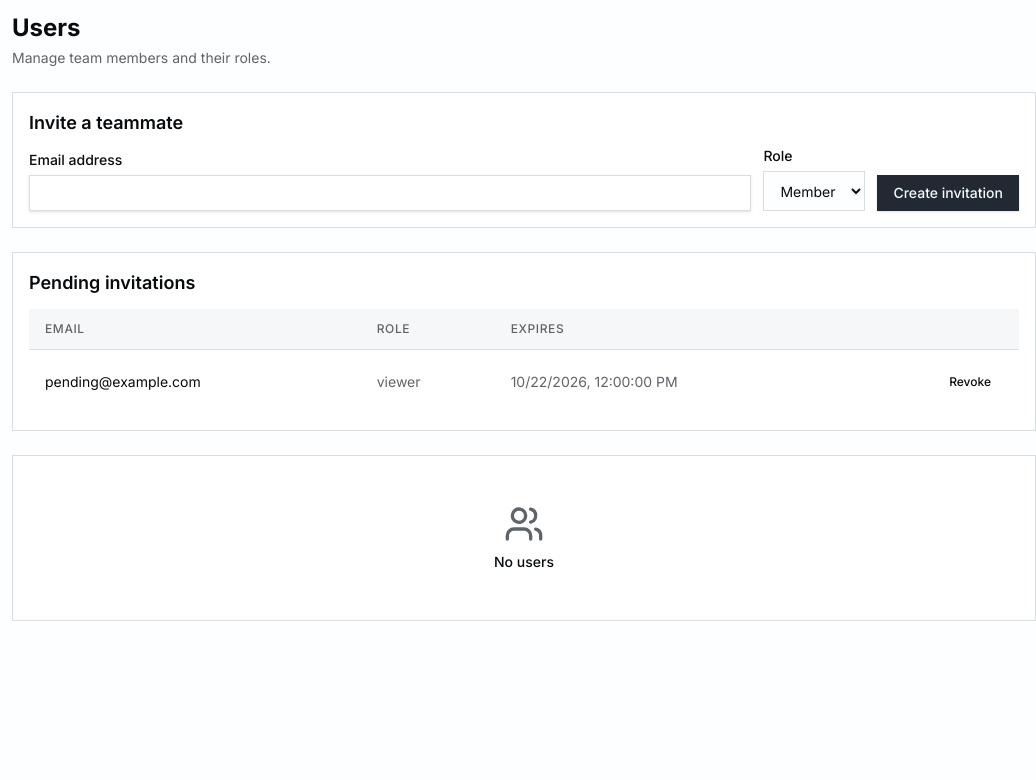
Test: UsersPage invitations › warns that the generated link works for anyone until used, revoked, or expired
Type "new@example.com" into the field labelled "Email address" at (390, 193), box [29, 175, 751, 211]
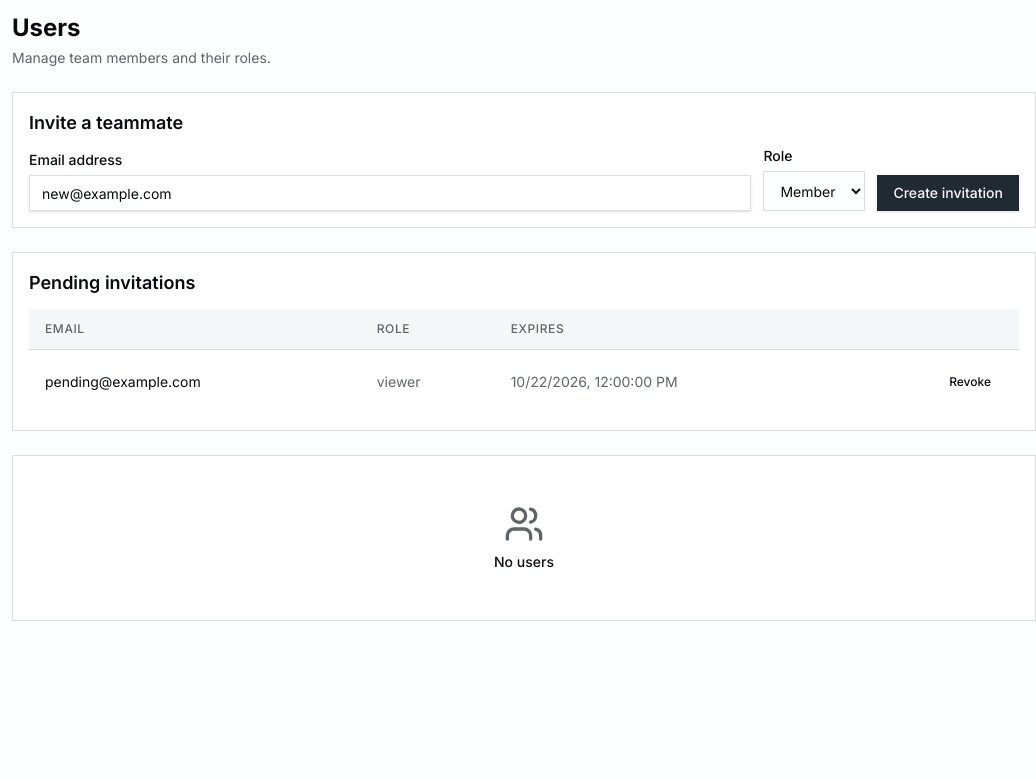
Click the button "Create invitation" at (948, 193), box [877, 175, 1019, 211]
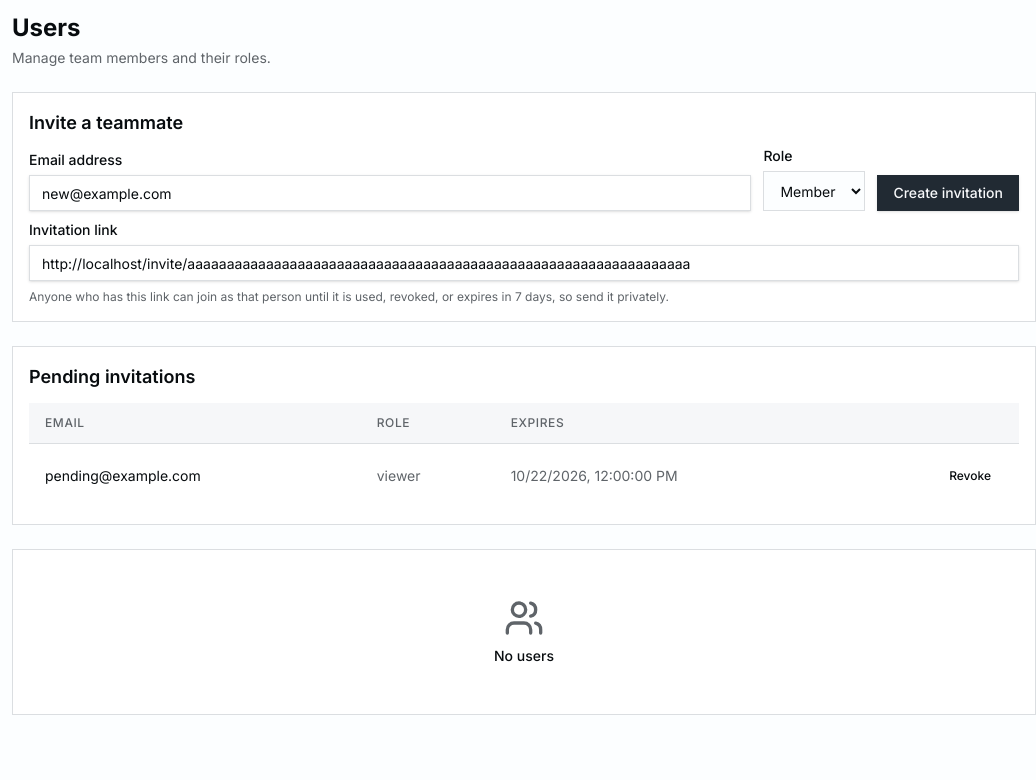
expect the text "Anyone who has this link can join as that person until it is used, revoked, or expires in 7 days, so send it privately." is shown: met, box [29, 289, 669, 304]
